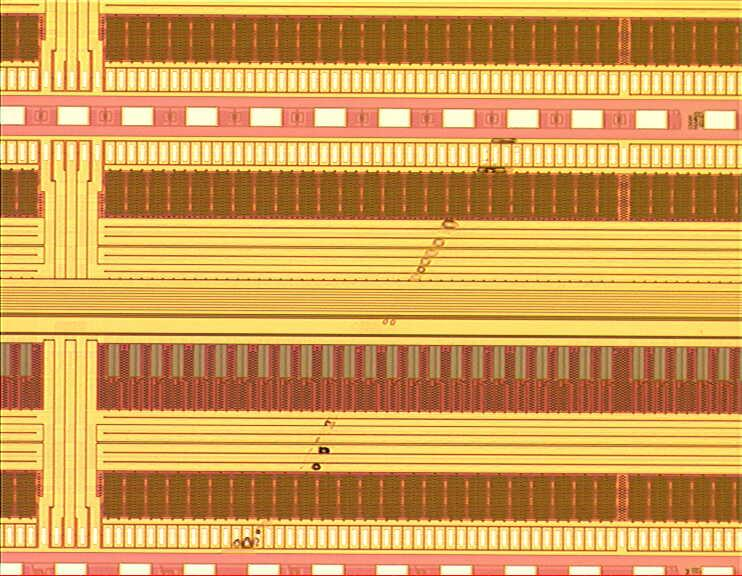SCRATCH: (227, 123, 522, 560)
